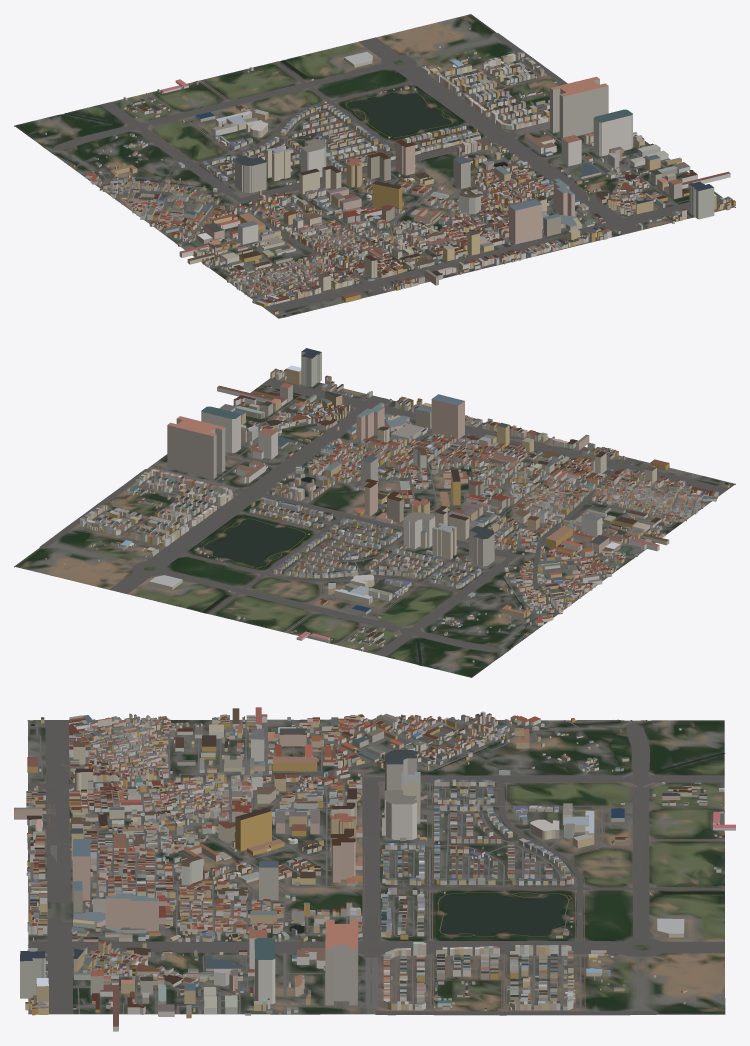
3 renders of one model, top to bottom at view 1: azimuth 30°, elevation 25°; view 2: azimuth 150°, elevation 25°; view 3: azimuth 270°, elevation 25°, orthographic. The views are drawn at different scales.
Visible parts, largest first — view 1: buildings, ground, roads, water; view 2: buildings, ground, roads, water; view 3: buildings, ground, roads, water.
Part boxes in pixels (<box>): buildings: <box>44,28,735,314</box>; ground: <box>14,14,735,318</box>; roads: <box>49,33,735,318</box>; water: <box>43,60,524,316</box>; buildings: <box>45,348,729,662</box>; ground: <box>14,375,735,677</box>; roads: <box>39,378,735,656</box>; water: <box>171,477,727,665</box>; buildings: <box>14,707,735,1031</box>; ground: <box>27,719,725,1014</box>; roads: <box>27,719,724,1015</box>; water: <box>30,720,725,979</box>.
Bounding box in the file's own units: 1516 × 129 × 1453.
